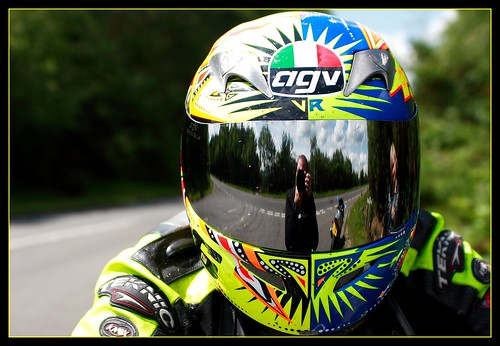helmet: (170, 10, 430, 333)
